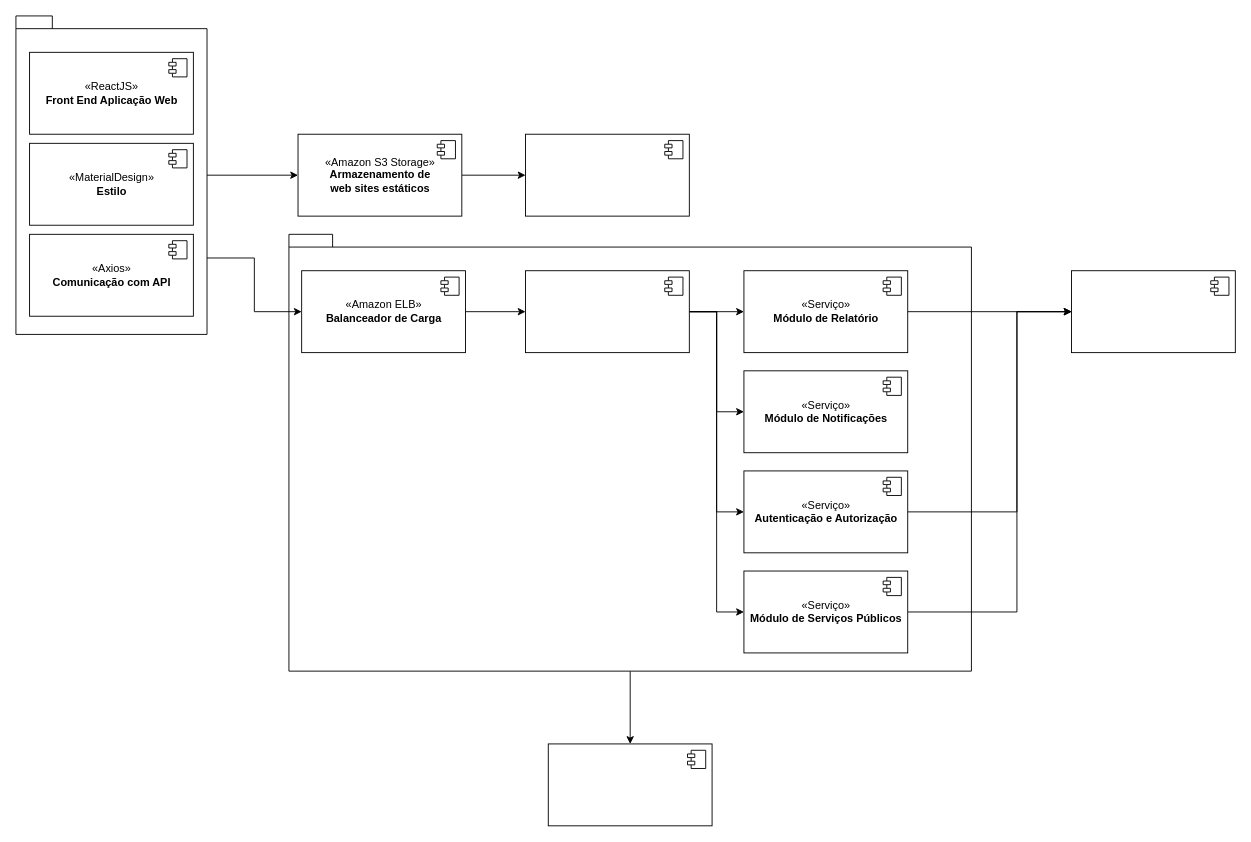
The diagram is 1251 pixels wide and 842 high, and some of its shapes have lost their labels. Here are the shapes that lost their labels. From the top down, the centre of each, then its label:
At point (607, 174): "«Amazon Delivery Content» Entrega de Conteúdo".
At point (607, 311): "«Amazon ECS» Gestão de Containers".
At point (1153, 311): "«MySql» SGBD SQL".
At point (629, 784): "«Amazon CloudWatch» Gerenciamento de Logs".
